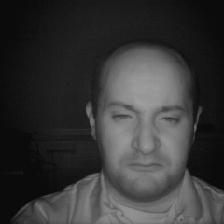sad: (85, 38, 205, 198)
